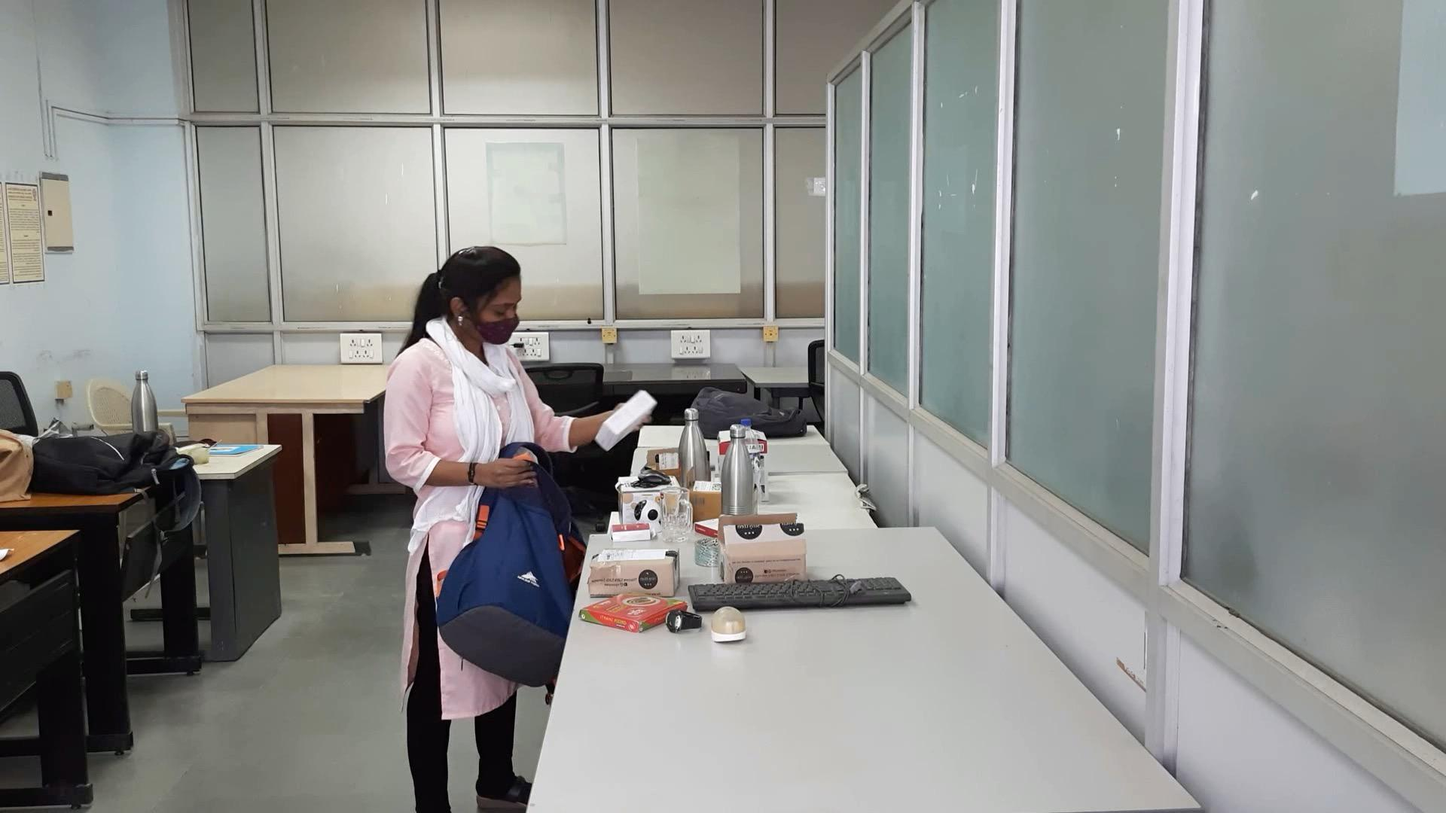shoplifting: (320, 341, 712, 745)
